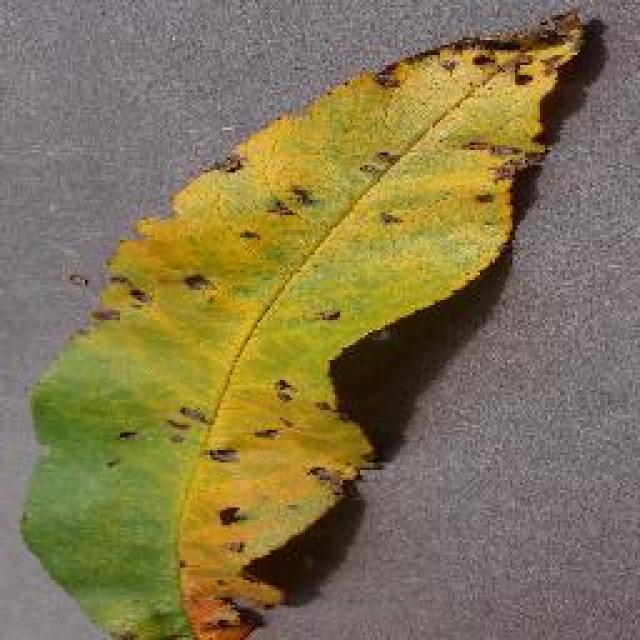Peach_Bacterial_Spot: (187, 55, 420, 573)
